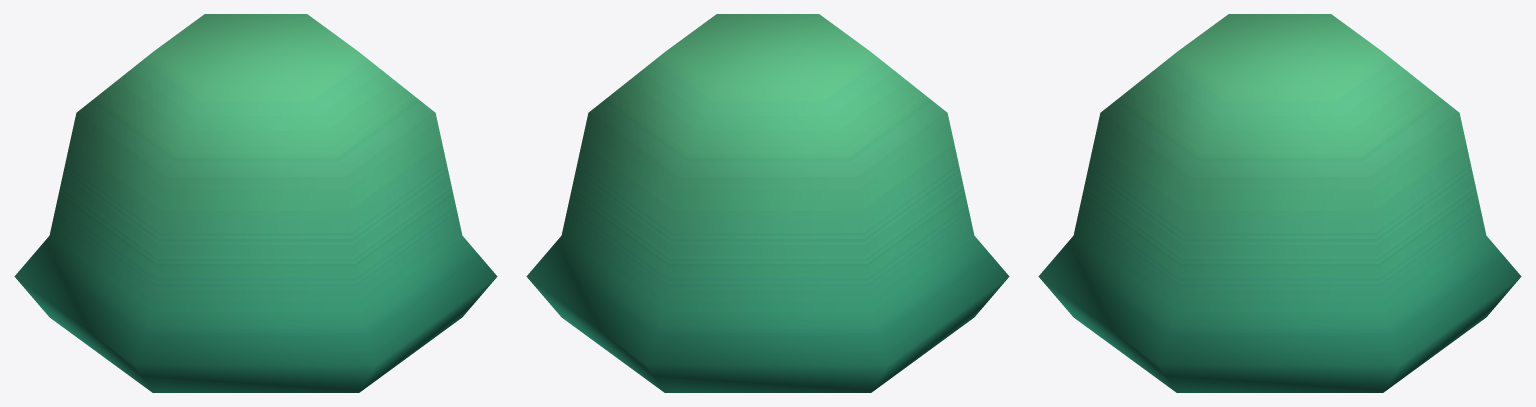
File: ice-cream-scoop-mint.glb
The picture shows the model from 3 angles, left to right: view 1: azimuth 30°, elevation 25°; view 2: azimuth 150°, elevation 25°; view 3: azimuth 270°, elevation 25°; orthographic projection.
Visible parts, largest first — view 1: ice-cream-scoop-mint; view 2: ice-cream-scoop-mint; view 3: ice-cream-scoop-mint.
Boxes of the visible parts, x1,y1,x2,y2 form: ice-cream-scoop-mint: (14, 14, 497, 392); ice-cream-scoop-mint: (526, 14, 1009, 392); ice-cream-scoop-mint: (1038, 14, 1521, 392).
Size of the model in its own units: 0.2353 by 0.165 by 0.2716.
Materials: 1 (1 with a texture image).
